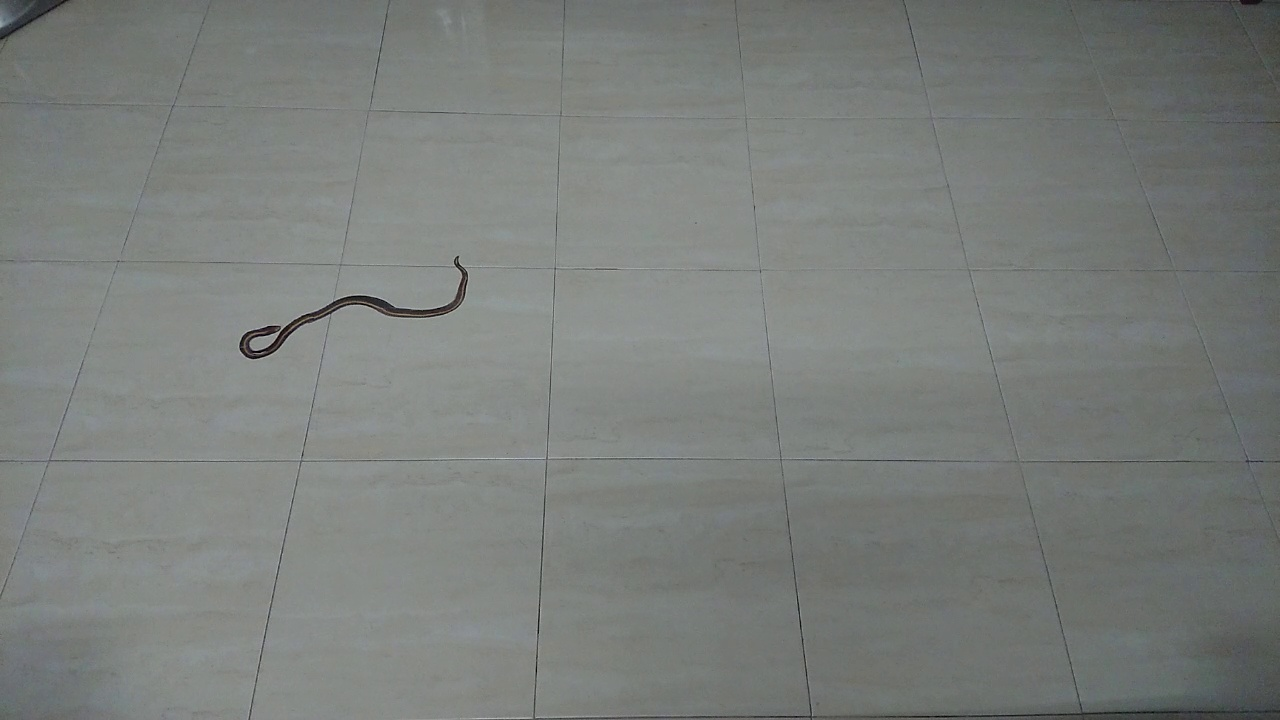snake: (222, 245, 491, 361)
